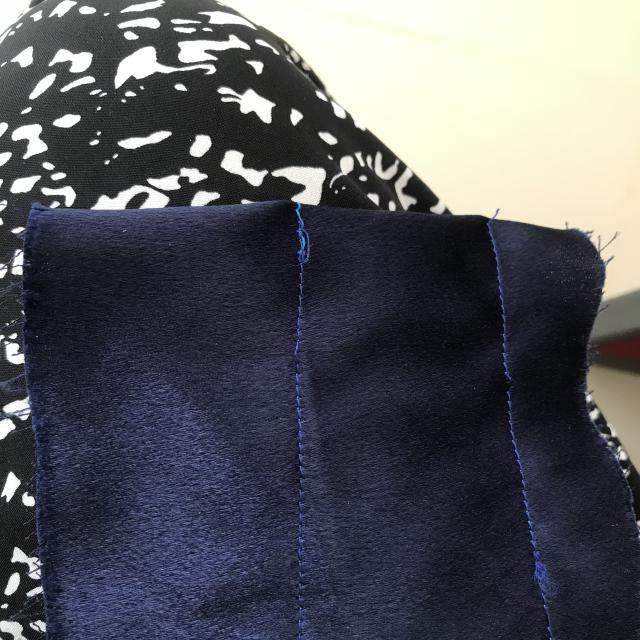broken: (494, 354, 534, 405)
